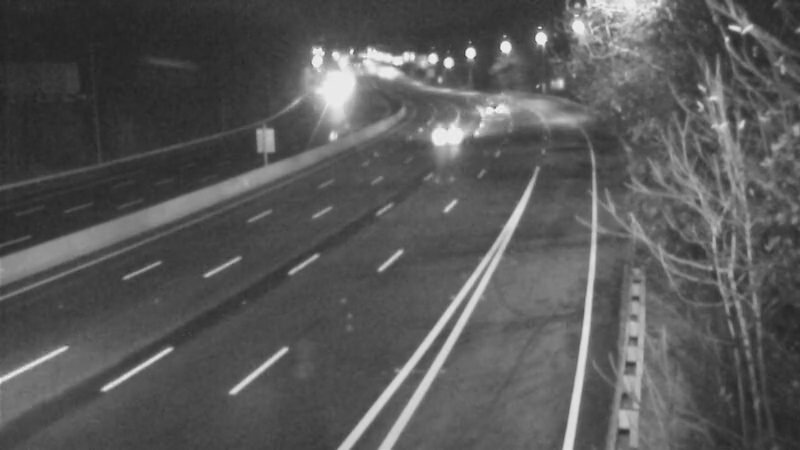vehicle: (463, 81, 513, 131), (424, 111, 474, 161), (308, 64, 358, 114)
